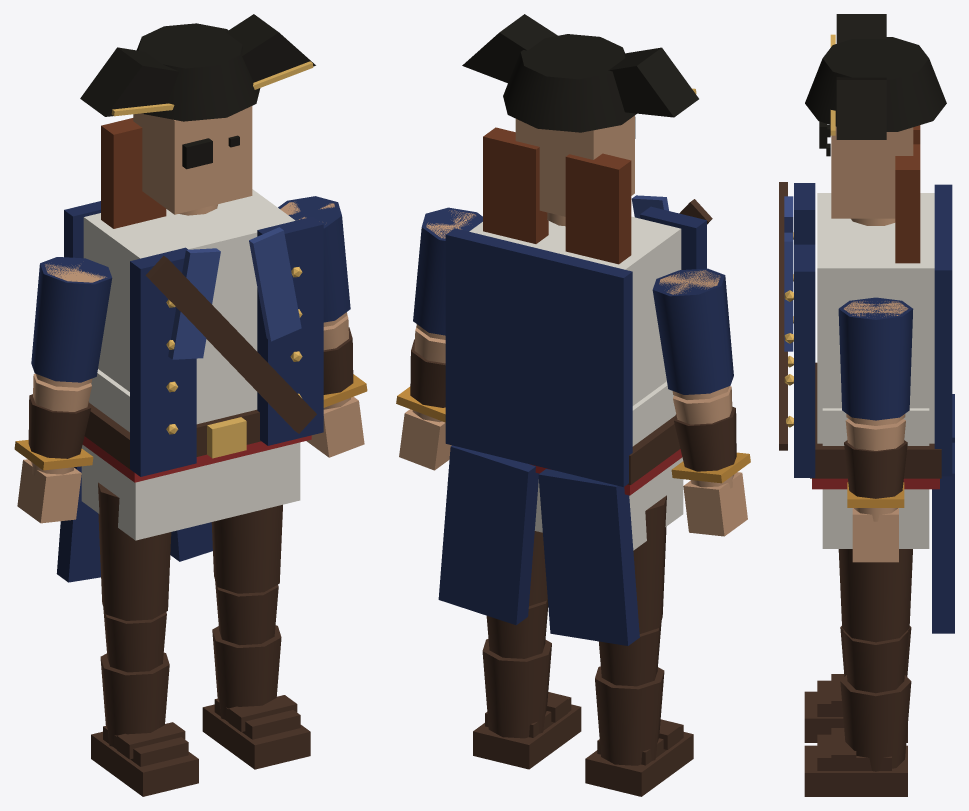
Rendered from pirate-body.glb.
3 views of the same model, side by side, from view 1: azimuth 30°, elevation 25°; view 2: azimuth 150°, elevation 25°; view 3: azimuth 270°, elevation 25° (orthographic).
Visible parts, largest first — view 1: Shirt, Tunic, Sleeve (×2), CoatFront-1, Face, CoatFront1, Boot (×2), HatCrown, FoldedBrim, Thigh-1, Bandolier, Thigh1 (+26 smaller); view 2: CoatBack, HairLock (×8), CoatTail-1, CoatTail1, Sleeve (×2), Boot (×2), HatCrown, Shirt, FoldedBrim, Face, Tunic, Thigh-1 (+18 smaller); view 3: Shirt, Sleeve, HatCrown, Thigh1, Face, Tunic, CoatBack, CoatFront1, Boot, FoldedBrim, CoatTail1, Sandal1 (+18 smaller).
Boxes of the visible parts, <box> form: Shirt: <box>83,189,295,424</box>; Tunic: <box>81,369,300,540</box>; Sleeve (×2): <box>31,196,350,382</box>; CoatFront-1: <box>130,247,196,476</box>; Face: <box>133,106,252,214</box>; CoatFront1: <box>257,216,323,445</box>; Boot (×2): <box>100,625,281,746</box>; HatCrown: <box>137,23,260,121</box>; FoldedBrim: <box>80,14,315,116</box>; Thigh-1: <box>98,482,171,620</box>; Bandolier: <box>145,255,316,433</box>; Thigh1: <box>211,504,282,593</box>; CoatBack: <box>445,228,632,486</box>; HairLock (×8): <box>483,127,631,264</box>; CoatTail-1: <box>538,469,639,645</box>; CoatTail1: <box>438,445,538,625</box>; Sleeve (×2): <box>413,207,733,394</box>; Boot (×2): <box>482,639,664,765</box>; HatCrown: <box>503,34,636,132</box>; Shirt: <box>469,216,681,405</box>; FoldedBrim: <box>462,14,698,117</box>; Face: <box>515,115,634,216</box>; Tunic: <box>534,381,683,550</box>; Thigh-1: <box>633,495,666,633</box>; Shirt: <box>817,193,934,443</box>; Sleeve: <box>838,297,913,420</box>; HatCrown: <box>805,37,946,131</box>; Thigh1: <box>838,549,912,642</box>; Face: <box>831,126,913,218</box>; Tunic: <box>822,408,929,548</box>; CoatBack: <box>934,184,952,476</box>; CoatFront1: <box>794,244,815,477</box>; Boot: <box>840,675,911,771</box>; FoldedBrim: <box>836,14,886,139</box>; CoatTail1: <box>932,442,954,633</box>; Sandal1: <box>804,745,907,796</box>.
Bounding box in the file's own units: 1.04 × 2.2 × 0.495.
